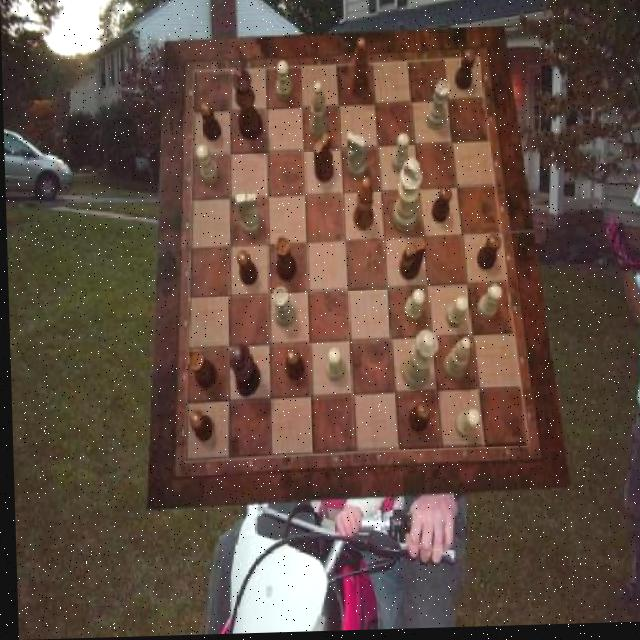bishop: (348, 39, 369, 99), (350, 179, 372, 233)
black-bishop: (227, 345, 259, 399)
black-king: (397, 243, 425, 283), (311, 134, 332, 185)
black-knight: (453, 53, 476, 94), (474, 238, 499, 273), (187, 412, 212, 445), (200, 102, 220, 143), (429, 190, 450, 226), (235, 251, 256, 286), (406, 404, 429, 435), (282, 350, 303, 383)
black-pawn: (230, 68, 262, 143)
black-queen: (186, 351, 214, 391), (273, 238, 294, 284)
black-rook: (439, 340, 469, 383), (308, 83, 328, 142)
white-bishop: (389, 160, 421, 235)
white-king: (234, 194, 259, 239), (345, 135, 366, 181)
white-knight: (195, 146, 218, 187), (475, 287, 500, 322), (389, 137, 409, 176), (452, 412, 477, 442), (443, 298, 466, 330), (402, 292, 423, 326), (323, 349, 343, 384), (275, 62, 292, 103)
white-pawn: (398, 333, 437, 394)
white-queen: (424, 84, 450, 133), (270, 290, 294, 331)
